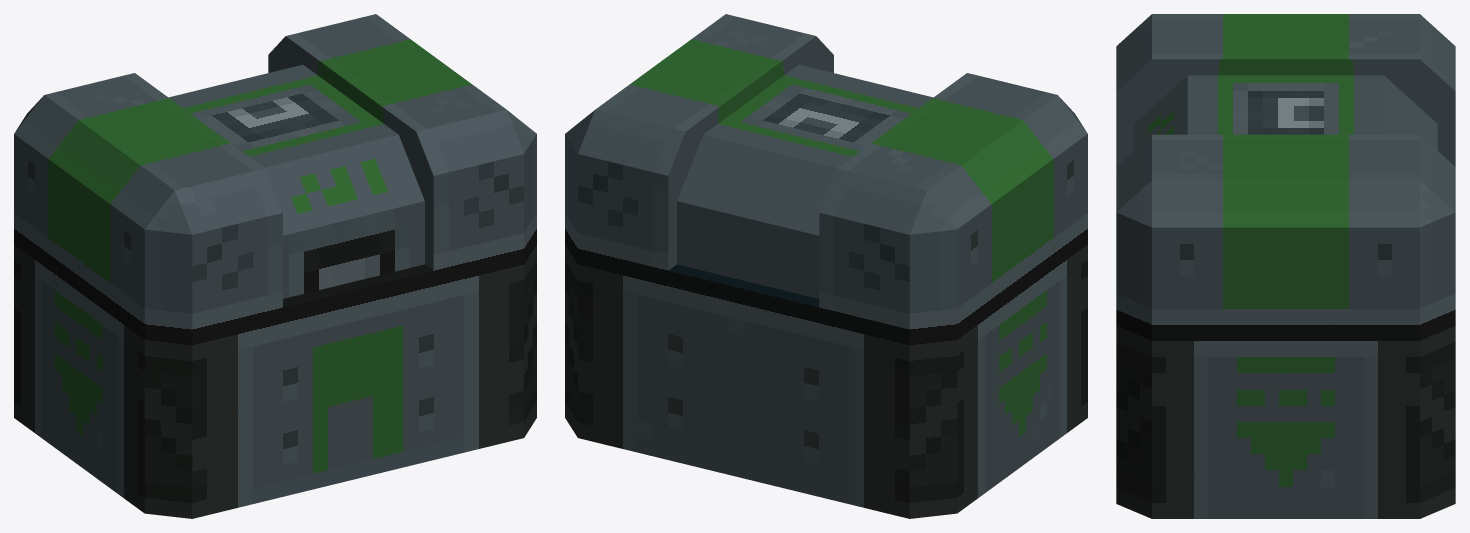
The model's file is tritanium_crate_green.obj.
3 renders of one model, left to right at view 1: azimuth 30°, elevation 25°; view 2: azimuth 150°, elevation 25°; view 3: azimuth 270°, elevation 25°, orthographic. The views are drawn at different scales.
Parts seen in each view (by area): view 1: base; view 2: base; view 3: base.
Part boxes in pixels (x1,y1,x2,y2): base: (14, 14, 536, 518); base: (565, 14, 1087, 518); base: (1116, 14, 1455, 518).
Size of the model in its own units: 0.9958 by 0.766 by 0.7278.
